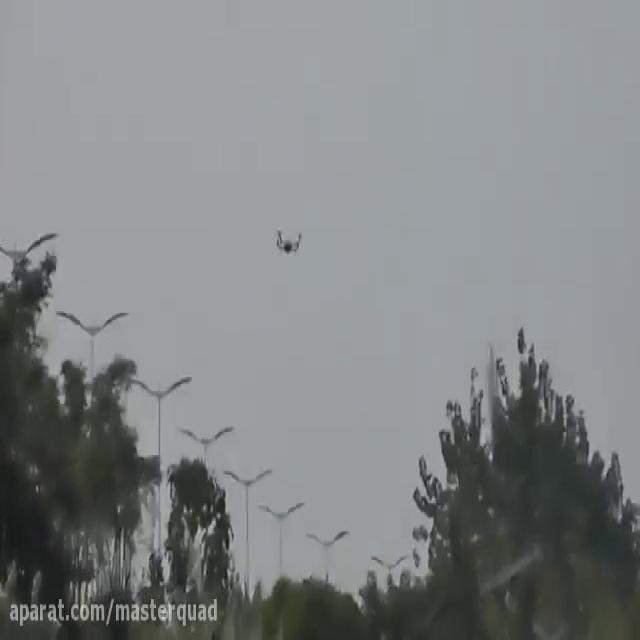drone: (272, 226, 304, 256)
